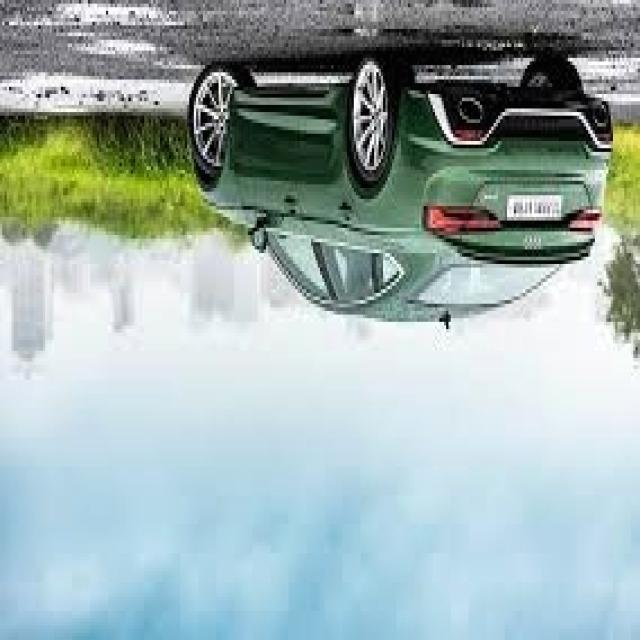green: (194, 48, 613, 318)
